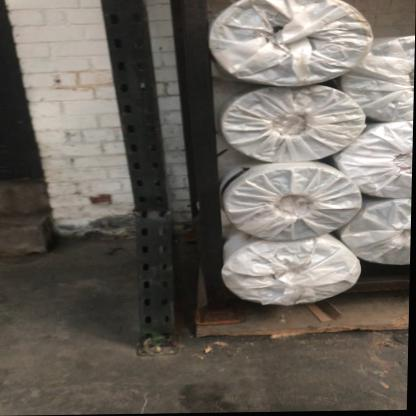vertical_damage: (122, 157, 185, 252)
